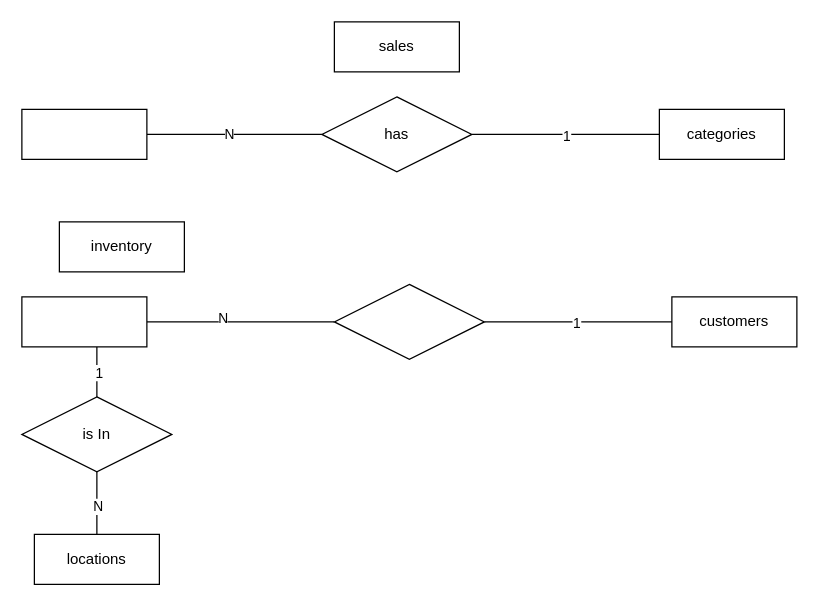
Some shapes in this 819 by 606 pixel diagram are drawn without their labels. The shapes that lost their labels are listed below. From the top down, each one's centre as x and y in pixels, then its label:
At point (84, 133): "menus".
At point (84, 321): "reservations".
At point (408, 321): "can Make".
